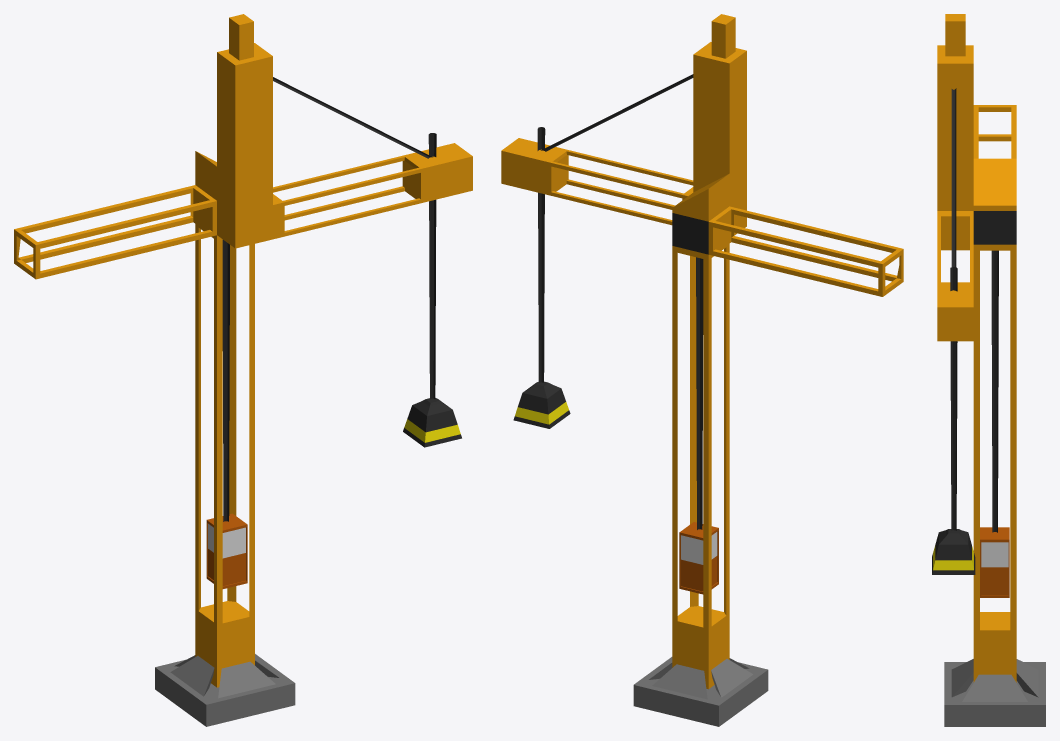
File: mono_vinc.fbx
3 renders of one model, left to right at view 1: azimuth 30°, elevation 25°; view 2: azimuth 150°, elevation 25°; view 3: azimuth 270°, elevation 25°, orthographic. The views are drawn at different scales.
Visible parts, largest first — view 1: Cube, Cube.002, Cylinder.002, Cube.001, Cylinder, Cylinder.001; view 2: Cube, Cube.002, Cylinder.002, Cube.001, Cylinder, Cylinder.001; view 3: Cube, Cube.002, Cylinder.002, Cube.001, Cylinder, Cylinder.001.
Boxes of the visible parts, bbox=[...] form: Cube: bbox=[14, 14, 472, 726]; Cube.002: bbox=[206, 513, 247, 588]; Cylinder.002: bbox=[222, 240, 229, 521]; Cube.001: bbox=[403, 398, 461, 447]; Cylinder: bbox=[428, 133, 436, 399]; Cylinder.001: bbox=[273, 77, 432, 158]; Cube: bbox=[501, 14, 903, 726]; Cube.002: bbox=[679, 522, 718, 594]; Cylinder.002: bbox=[696, 257, 703, 529]; Cube.001: bbox=[513, 381, 570, 428]; Cylinder: bbox=[537, 127, 545, 382]; Cylinder.001: bbox=[541, 74, 693, 151]; Cube: bbox=[937, 14, 1045, 726]; Cube.002: bbox=[980, 527, 1009, 597]; Cylinder.002: bbox=[991, 250, 998, 532]; Cube.001: bbox=[932, 529, 975, 574]; Cylinder: bbox=[950, 267, 957, 530]; Cylinder.001: bbox=[951, 88, 956, 290].
Size of the model in its own units: 191 by 302 by 45.4.
